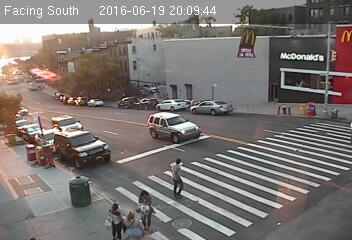neg: (235, 26, 260, 59), (304, 98, 320, 120), (207, 80, 221, 98), (165, 80, 178, 98), (277, 100, 290, 117)
pos: (127, 186, 159, 229), (161, 157, 193, 199), (100, 200, 129, 239), (121, 208, 144, 239)
